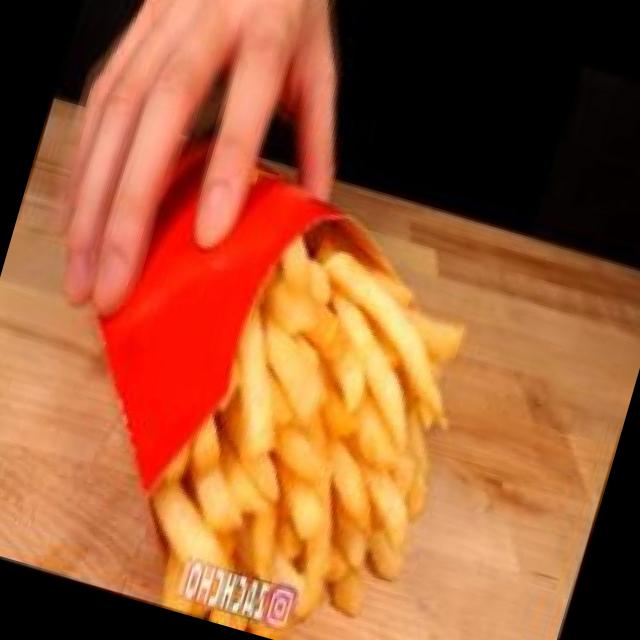french fries: (101, 164, 524, 640)
